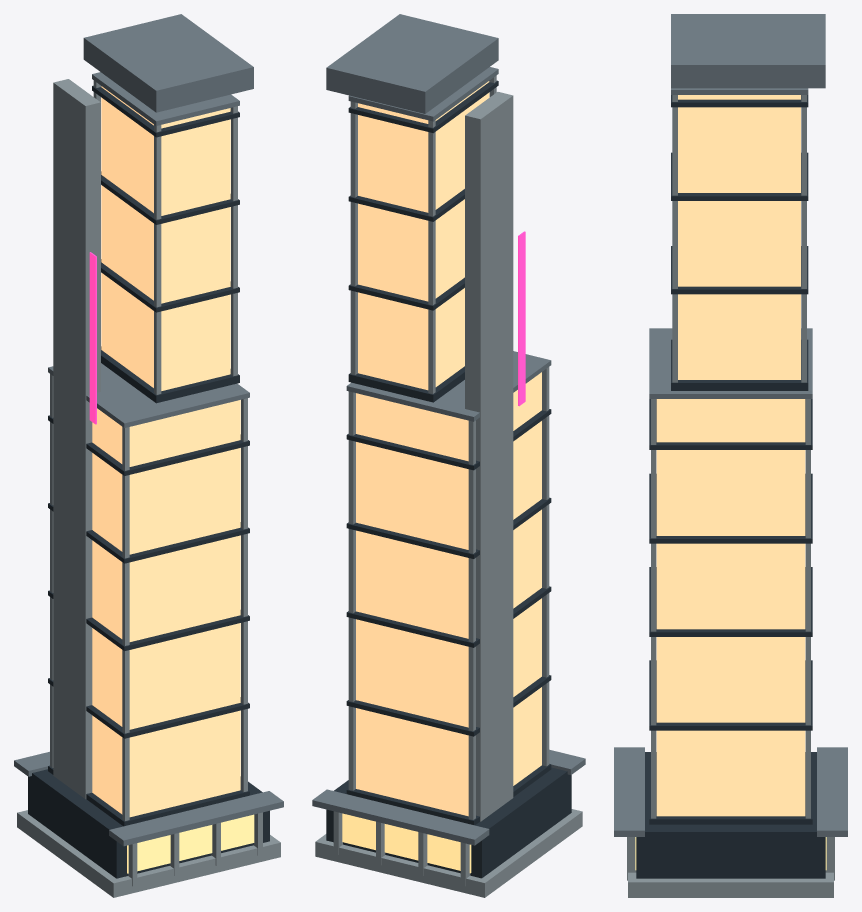
The model's file is vrx_city_hotel_b_LOD1.fbx.
The picture shows the model from 3 angles, left to right: view 1: azimuth 30°, elevation 25°; view 2: azimuth 150°, elevation 25°; view 3: azimuth 270°, elevation 25°; orthographic projection. The views are drawn at different scales.
Parts seen in each view (by area): view 1: vrx_city_hotel_b_LOD1; view 2: vrx_city_hotel_b_LOD1; view 3: vrx_city_hotel_b_LOD1.
Boxes of the visible parts, x1=… form: vrx_city_hotel_b_LOD1: x1=14, y1=14, x2=283, y2=897; vrx_city_hotel_b_LOD1: x1=312, y1=14, x2=585, y2=897; vrx_city_hotel_b_LOD1: x1=614, y1=14, x2=847, y2=897.
Bounding box in the file's own units: 24 × 106 × 27.2.
